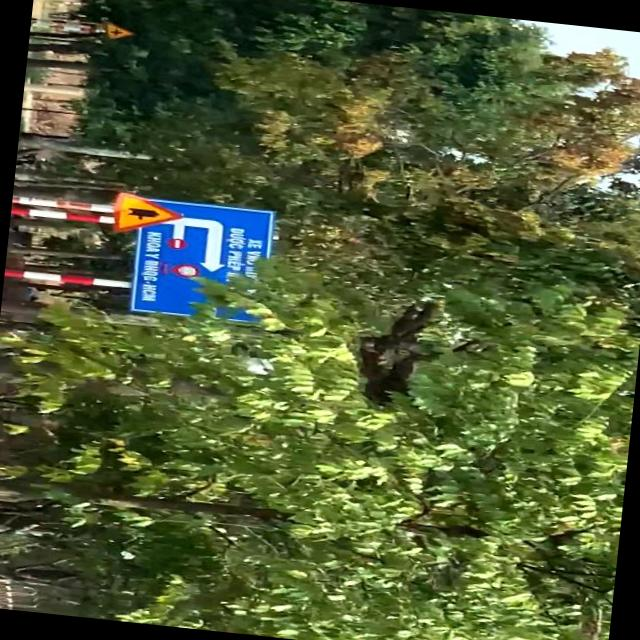W-205a: (102, 18, 138, 43)
W-207b: (110, 186, 184, 238)
